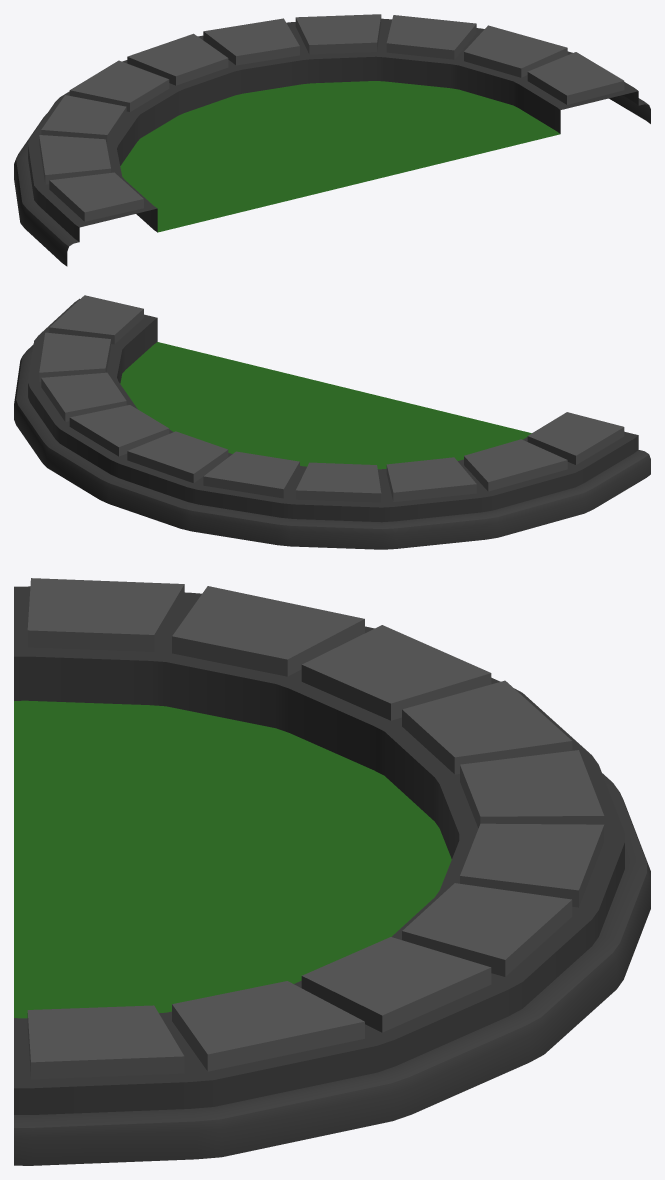
Rendered from mdl_poland_grass_end.gltf.
The picture shows the model from 3 angles, top to bottom: view 1: azimuth 30°, elevation 25°; view 2: azimuth 150°, elevation 25°; view 3: azimuth 270°, elevation 25°; orthographic projection. The views are drawn at different scales.
Parts seen in each view (by area): view 1: Cube.031; view 2: Cube.031; view 3: Cube.031.
Part boxes in pixels (box(x1,y1,x2,y2)): Cube.031: box(14, 14, 650, 266); Cube.031: box(14, 295, 650, 549); Cube.031: box(14, 578, 650, 1165).
Bounding box in the file's own units: 1.08 × 0.0806 × 0.5556.
1 material, 1 textured.
